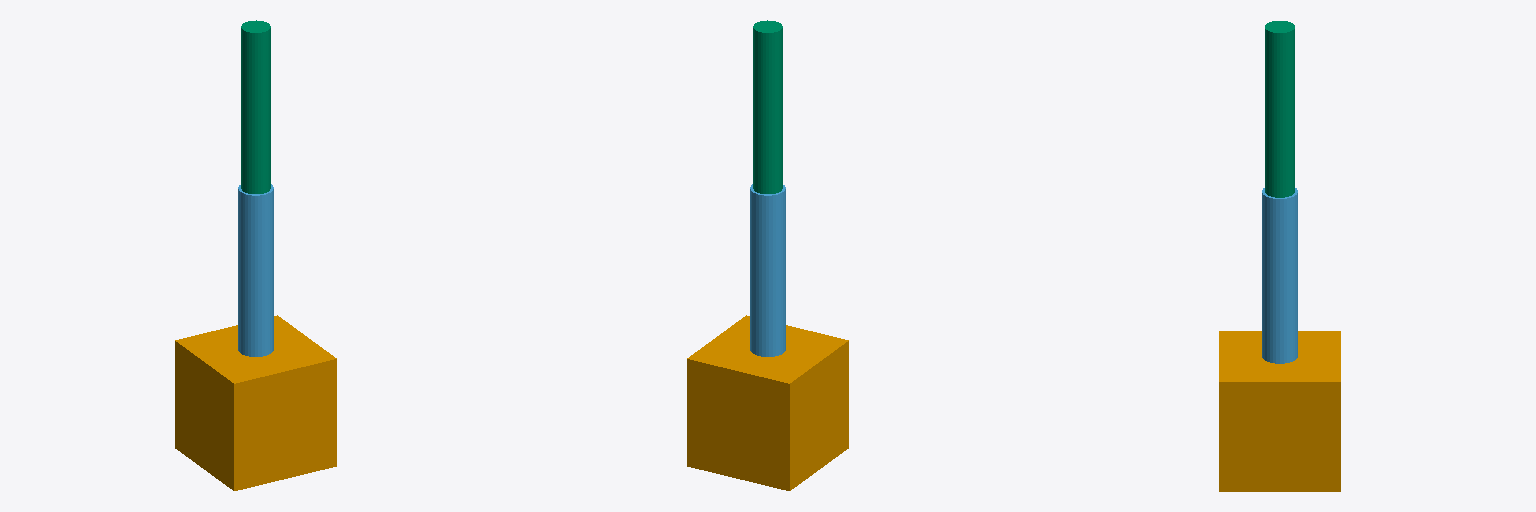
robot.urdf — two_dof_arm:
<?xml version="1.0"?>
<robot name="two_dof_arm">

  <!-- Base link -->
  <link name="base_link">
    <inertial>
      <origin xyz="0 0 0" rpy="0 0 0"/>
      <mass value="1.0"/>
      <inertia ixx="0.01" ixy="0.0" ixz="0.0"
               iyy="0.01" iyz="0.0"
               izz="0.01"/>
    </inertial>

    <visual>
      <origin xyz="0 0 0.1" rpy="0 0 0"/>
      <geometry>
        <box size="0.2 0.2 0.2"/>
      </geometry>
    </visual>

    <collision>
      <origin xyz="0 0 0.1" rpy="0 0 0"/>
      <geometry>
        <box size="0.2 0.2 0.2"/>
      </geometry>
    </collision>
  </link>

  <!-- Link 1 -->
  <link name="link1">
    <inertial>
      <origin xyz="0.0 0 0.15" rpy="0 0 0"/>
      <mass value="0.5"/>
      <inertia ixx="0.005" ixy="0.0" ixz="0.0"
               iyy="0.005" iyz="0.0"
               izz="0.005"/>
    </inertial>

    <visual>
      <origin xyz="0.0 0 0.15" rpy="0 0 0"/>
      <geometry>
        <cylinder radius="0.03" length="0.3"/>
      </geometry>
    </visual>

    <collision>
      <origin xyz="0.0 0 0.15" rpy="0 0 0"/>
      <geometry>
        <cylinder radius="0.03" length="0.3"/>
      </geometry>
    </collision>
  </link>

  <joint name="joint1" type="revolute">
    <parent link="base_link"/>
    <child link="link1"/>
    <origin xyz="0 0 0.2" rpy="0 0 0"/>
    <axis xyz="0 1 0"/>
    <limit lower="-3.14" upper="3.14" effort="10" velocity="3"/>
  </joint>

  <!-- Link 2 -->
  <link name="link2">
    <inertial>
      <origin xyz="0.0 0 0.15" rpy="0 0 0"/>
      <mass value="0.3"/>
      <inertia ixx="0.003" ixy="0.0" ixz="0.0"
               iyy="0.003" iyz="0.0"
               izz="0.003"/>
    </inertial>

    <visual>
      <origin xyz="0.0 0 0.15" rpy="0 0 0"/>
      <geometry>
        <cylinder radius="0.025" length="0.3"/>
      </geometry>
    </visual>

    <collision>
      <origin xyz="0.0 0 0.15" rpy="0 0 0"/>
      <geometry>
        <cylinder radius="0.025" length="0.3"/>
      </geometry>
    </collision>
  </link>

  <joint name="joint2" type="revolute">
    <parent link="link1"/>
    <child link="link2"/>
    <origin xyz="0.0 0 0.3" rpy="0 0 0"/>
    <axis xyz="0 1 0"/>
    <limit lower="-2.0" upper="2.0" effort="10" velocity="3"/>
  </joint>

  <!-- ros2_control -->
  <ros2_control name="GazeboSystem" type="system">
    <hardware>
      <plugin>gazebo_ros2_control/GazeboSystem</plugin>
    </hardware>

    <joint name="joint1">
      <command_interface name="position"/>
      <state_interface name="position"/>
      <state_interface name="velocity"/>
    </joint>

    <joint name="joint2">
      <command_interface name="position"/>
      <state_interface name="position"/>
      <state_interface name="velocity"/>
    </joint>
  </ros2_control>

  <!-- Gazebo ros2_control plugin -->
  <gazebo>
    <plugin name="gazebo_ros2_control" filename="libgazebo_ros2_control.so">
      <parameters>
        /home/sylle/MAS_ws_public/install/two_dof_arm/share/two_dof_arm/config/controllers.yaml
      </parameters>
    </plugin>
  </gazebo>

</robot>

--- What the picture shows (computed from the rendered views, not written in the file) ---
The picture shows the robot from 3 angles, left to right: view 1: azimuth 30°, elevation 25°; view 2: azimuth 150°, elevation 25°; view 3: azimuth 270°, elevation 25°; orthographic projection.
Robot: two_dof_arm — 3 links, 2 joints (2 revolute); root link base_link; default pose: every joint at zero.
Visible links, largest first — view 1: base_link, link1, link2; view 2: base_link, link1, link2; view 3: base_link, link1, link2.
Link boxes in pixels (<box>): base_link: <box>175,315,336,490</box>; link1: <box>238,184,273,356</box>; link2: <box>241,20,270,193</box>; base_link: <box>687,315,848,490</box>; link1: <box>750,184,785,356</box>; link2: <box>753,20,782,193</box>; base_link: <box>1219,331,1340,491</box>; link1: <box>1262,188,1297,363</box>; link2: <box>1265,21,1294,197</box>.
Bounding box of the posed robot: 0.2 × 0.2 × 0.8 m (x, y, z).
Geometry: primitives only (box / cylinder / sphere), no mesh files.
